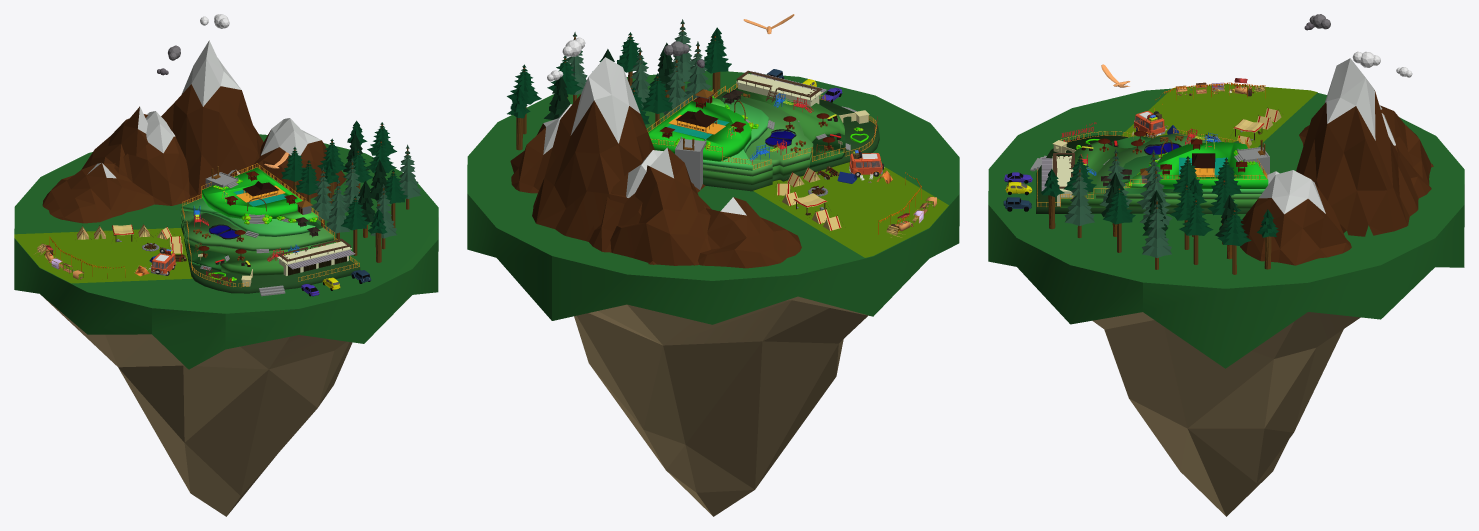
Rendered from dungkluruk.glb.
The picture shows the model from 3 angles, left to right: view 1: azimuth 30°, elevation 25°; view 2: azimuth 150°, elevation 25°; view 3: azimuth 270°, elevation 25°; orthographic projection. The views are drawn at different scales.
Parts seen in each view (by area): view 1: Cylinder.013; view 2: Cylinder.013; view 3: Cylinder.013.
Part boxes in pixels (x1=…): Cylinder.013: x1=14, y1=14, x2=438, y2=516; Cylinder.013: x1=467, y1=14, x2=959, y2=516; Cylinder.013: x1=988, y1=14, x2=1464, y2=516.
Size of the model in its own units: 26.24 by 29.75 by 25.86.
4 materials, 4 textured.
